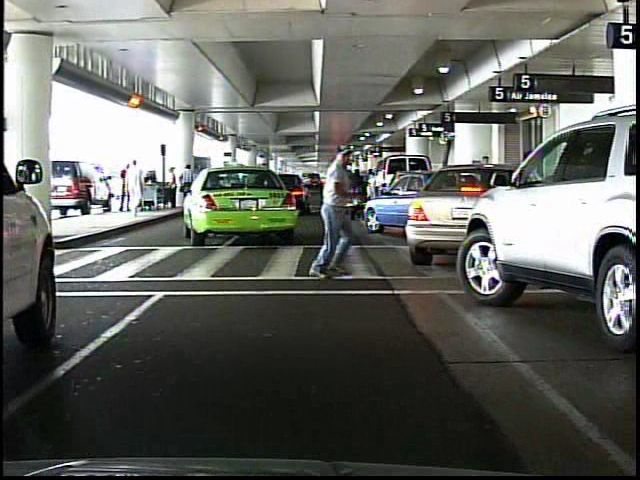person: (300, 142, 367, 283)
